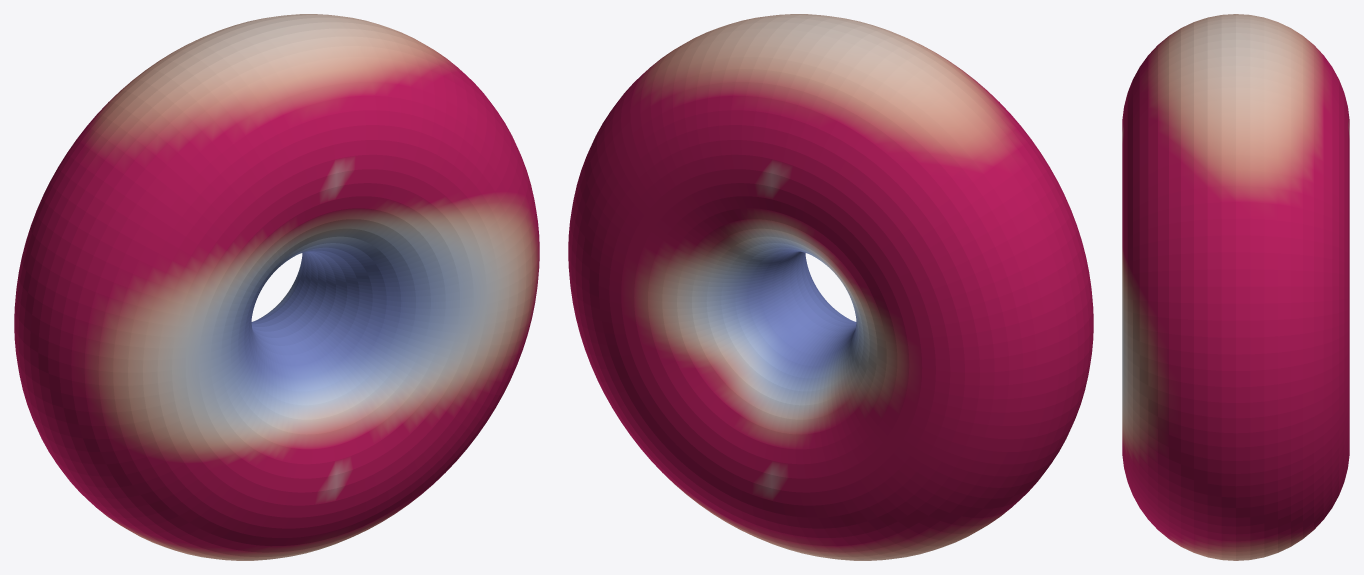
The picture shows the model from 3 angles, left to right: view 1: azimuth 30°, elevation 25°; view 2: azimuth 150°, elevation 25°; view 3: azimuth 270°, elevation 25°; orthographic projection. The views are drawn at different scales.
Parts seen in each view (by area): view 1: world; view 2: world; view 3: world.
Boxes of the visible parts, x1,y1,x2,y2 form: world: [14, 14, 539, 560]; world: [568, 14, 1093, 560]; world: [1122, 14, 1349, 560].
Bounding box in the file's own units: 24 × 24 × 9.98.
